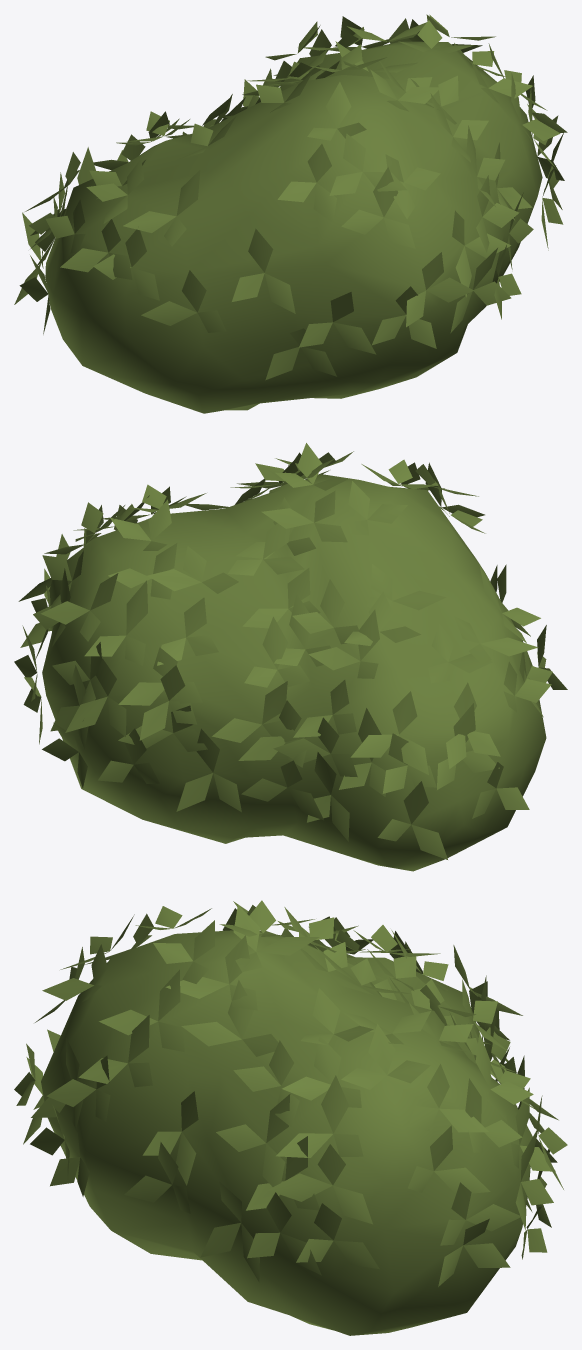
The model's file is shrub-b.glb.
3 renders of one model, top to bottom at view 1: azimuth 30°, elevation 25°; view 2: azimuth 150°, elevation 25°; view 3: azimuth 270°, elevation 25°, orthographic. The views are drawn at different scales.
Visible parts, largest first — view 1: shrub-b; view 2: shrub-b; view 3: shrub-b.
Part boxes in pixels (box(x1,y1,x2,y2)): shrub-b: box(14, 14, 567, 413); shrub-b: box(14, 443, 567, 871); shrub-b: box(14, 900, 567, 1335).
Bounding box in the file's own units: 0.9441 × 0.609 × 0.8066.
